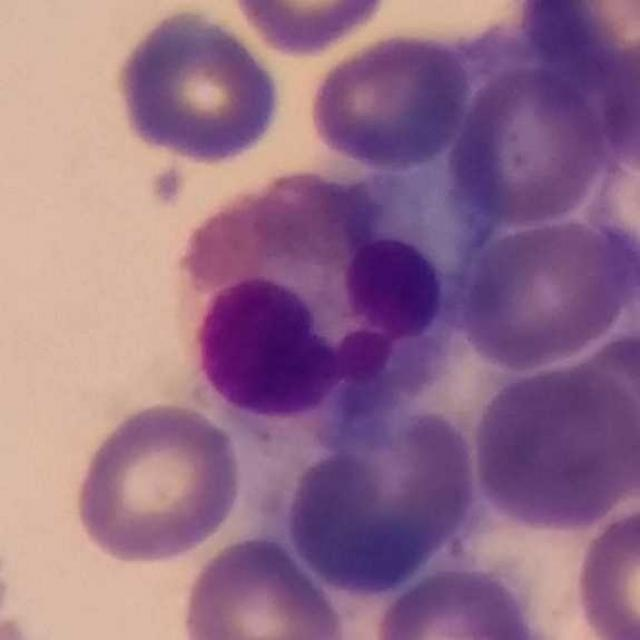Eosinophil: (172, 167, 452, 434)
Platelets: (138, 159, 196, 209)
RBC: (283, 401, 484, 600), (68, 396, 248, 568), (467, 358, 640, 534), (457, 212, 639, 372), (109, 3, 286, 167), (448, 64, 614, 230), (305, 27, 473, 174), (513, 0, 640, 170), (178, 532, 347, 640), (555, 326, 640, 502), (369, 564, 546, 640), (225, 0, 397, 58), (571, 501, 640, 640)
